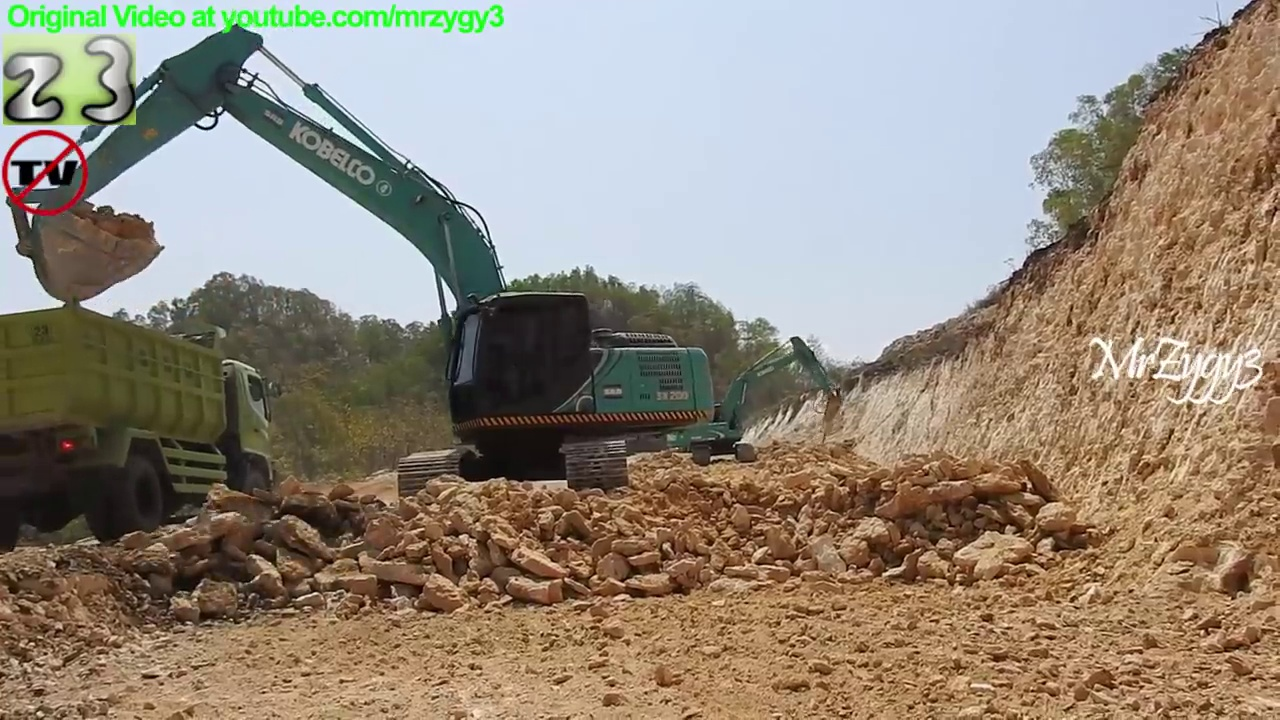excavator: (3, 20, 720, 520), (665, 333, 848, 471)
truck: (1, 296, 289, 558)
